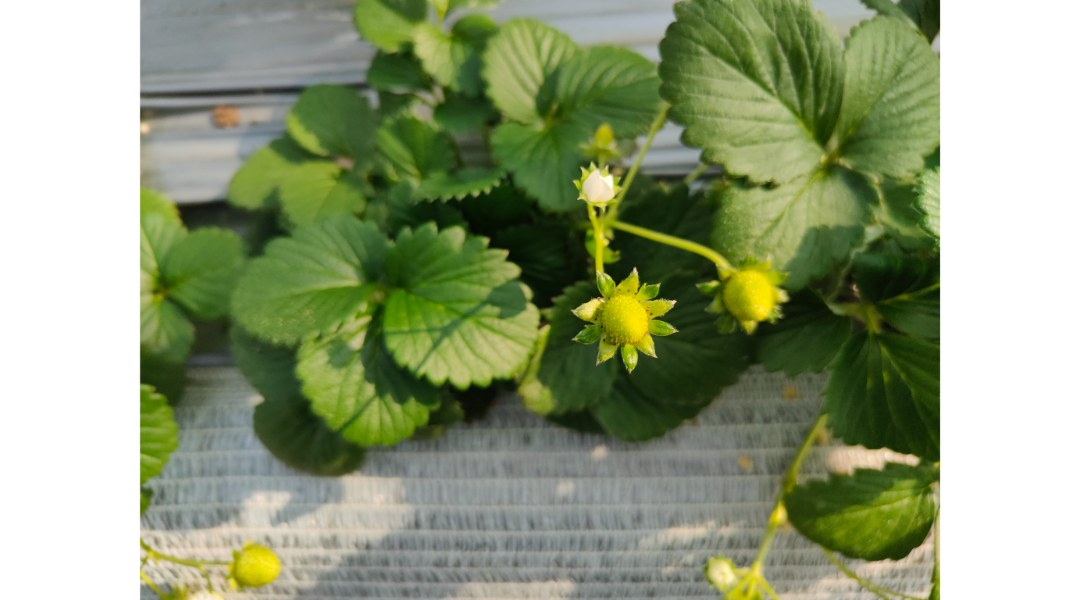berry: (561, 266, 682, 368), (697, 235, 795, 342), (223, 519, 294, 588)
flower: (575, 151, 620, 225)
strain: (608, 210, 727, 274), (614, 103, 666, 210)
